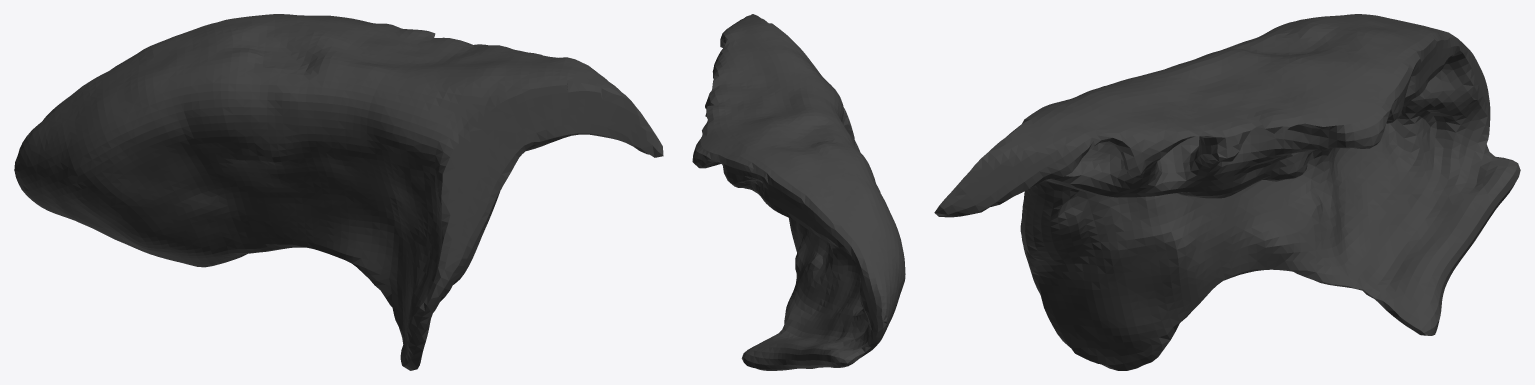
Rendered from canine_cardiac_pectinate_muscles.glb.
The picture shows the model from 3 angles, left to right: view 1: azimuth 30°, elevation 25°; view 2: azimuth 150°, elevation 25°; view 3: azimuth 270°, elevation 25°; orthographic projection. The views are drawn at different scales.
Visible parts, largest first — view 1: canine_cardiac_pectinate_muscles; view 2: canine_cardiac_pectinate_muscles; view 3: canine_cardiac_pectinate_muscles.
Part boxes in pixels (left/top/right/bottom): canine_cardiac_pectinate_muscles: left=14, top=14, right=663, bottom=370; canine_cardiac_pectinate_muscles: left=692, top=14, right=905, bottom=370; canine_cardiac_pectinate_muscles: left=934, top=14, right=1520, bottom=370.
Bounding box in the file's own units: 0.0333 × 0.0221 × 0.0367.
1 material, 1 textured.
